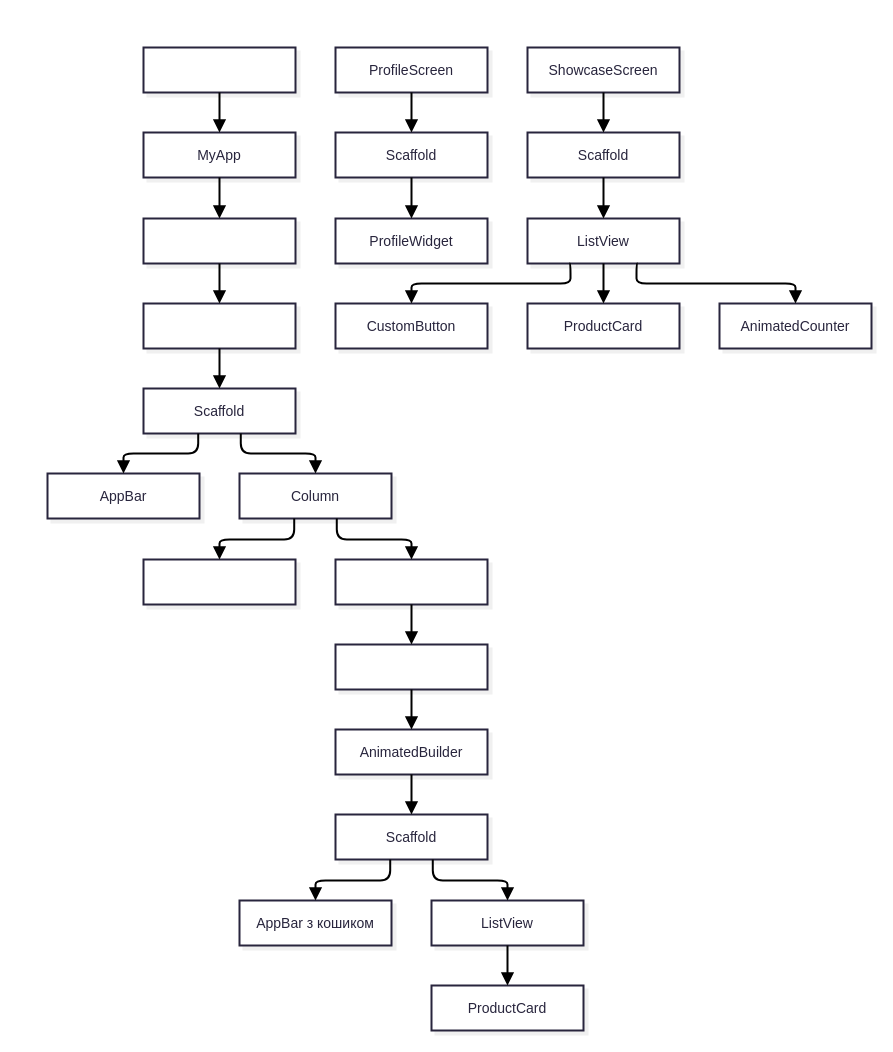
The diagram is 893 pixels wide and 1052 high, and some of its shapes have lost their labels. The shapes that lost their labels are listed below. From the top down, each one's centre as x and y in pixels, then its label:
At point (221, 71): "main.dart".
At point (221, 242): "MaterialApp".
At point (221, 327): "HomeScreen".
At point (221, 583): "Text".
At point (413, 583): "ElevatedButton".
At point (413, 668): "ProductsScreen".
